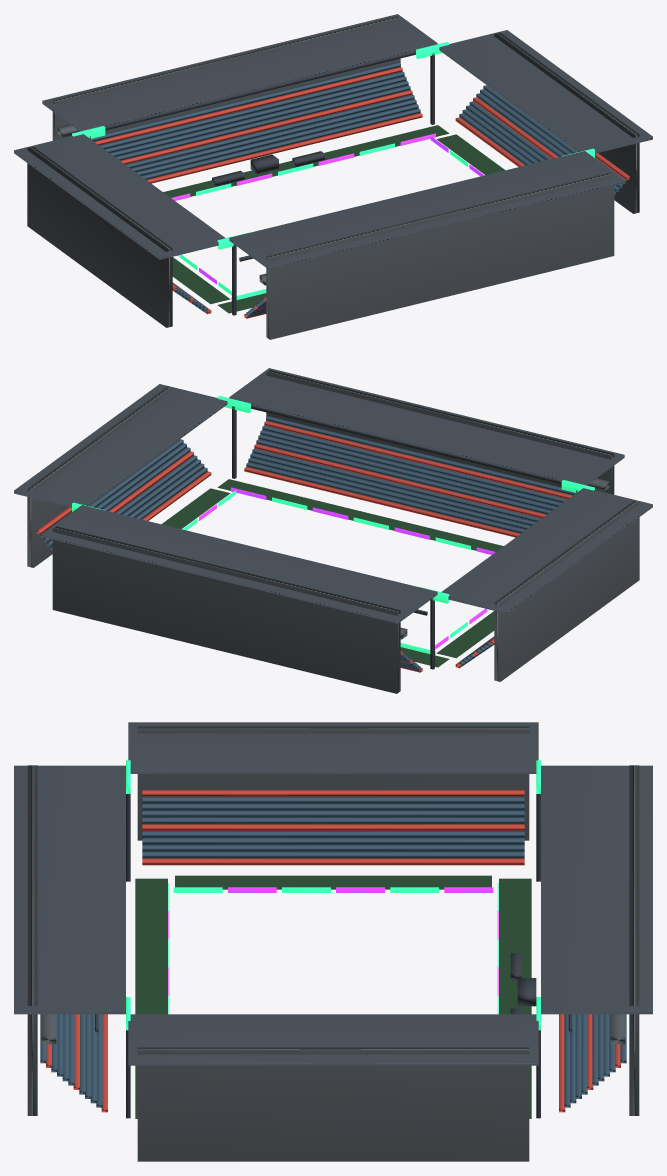
The model's file is stadium.glb.
3 views of the same model, one above another, from view 1: azimuth 30°, elevation 25°; view 2: azimuth 150°, elevation 25°; view 3: azimuth 270°, elevation 25° (orthographic). The views are drawn at different scales.
Parts seen in each view (by area): view 1: Long_Back_1, Long_Roof_1, Long_Roof_-1, End_Back_-1, End_Roof_-1, End_Roof_1, Long_Back_-1, End_Back_1, North_Apron, Long_-1_11, Long_-1_10, Long_-1_9 (+21 smaller); view 2: Long_Back_-1, Long_Roof_-1, Long_Roof_1, End_Back_-1, End_Roof_-1, End_Roof_1, Long_Back_1, End_Back_1, South_Apron, Long_1_11, Long_1_10, Long_1_9 (+21 smaller); view 3: End_Back_1, Long_Roof_1, Long_Roof_-1, End_Roof_1, End_Roof_-1, End_Back_-1, South_Apron, West_Apron, North_Apron, Long_Back_1, Long_Back_-1, End_-1_0 (+10 smaller).
Boxes of the visible parts, <box> form: Long_Back_1: <box>266,172,614,339</box>; Long_Roof_1: <box>229,151,624,269</box>; Long_Roof_-1: <box>42,14,437,131</box>; End_Back_-1: <box>27,146,172,327</box>; End_Roof_-1: <box>14,134,225,259</box>; End_Roof_1: <box>439,30,652,153</box>; Long_Back_-1: <box>52,16,400,140</box>; End_Back_1: <box>494,32,639,213</box>; North_Apron: <box>163,125,449,197</box>; Long_-1_11: <box>91,62,400,141</box>; Long_-1_10: <box>94,67,402,145</box>; Long_-1_9: <box>99,71,404,148</box>; Long_Back_-1: <box>52,526,400,693</box>; Long_Roof_-1: <box>42,505,437,623</box>; Long_Roof_1: <box>229,368,624,485</box>; End_Back_-1: <box>494,500,639,681</box>; End_Roof_-1: <box>441,488,652,613</box>; End_Roof_1: <box>14,384,227,507</box>; Long_Back_1: <box>266,370,614,494</box>; End_Back_1: <box>27,386,172,567</box>; South_Apron: <box>217,479,503,551</box>; Long_1_11: <box>266,416,575,495</box>; Long_1_10: <box>264,421,572,499</box>; Long_1_9: <box>262,425,567,502</box>; End_Back_1: <box>137,1047,529,1161</box>; Long_Roof_1: <box>14,765,125,1014</box>; Long_Roof_-1: <box>541,765,652,1014</box>; End_Roof_1: <box>128,1014,538,1065</box>; End_Roof_-1: <box>128,722,538,773</box>; End_Back_-1: <box>137,726,529,840</box>; South_Apron: <box>135,878,167,1118</box>; West_Apron: <box>175,875,491,889</box>; North_Apron: <box>499,878,531,1118</box>; Long_Back_1: <box>27,765,37,1115</box>; Long_Back_-1: <box>629,765,639,1115</box>; End_-1_0: <box>142,858,524,865</box>.
Bounding box in the file's own units: 172 × 27.3 × 137.
